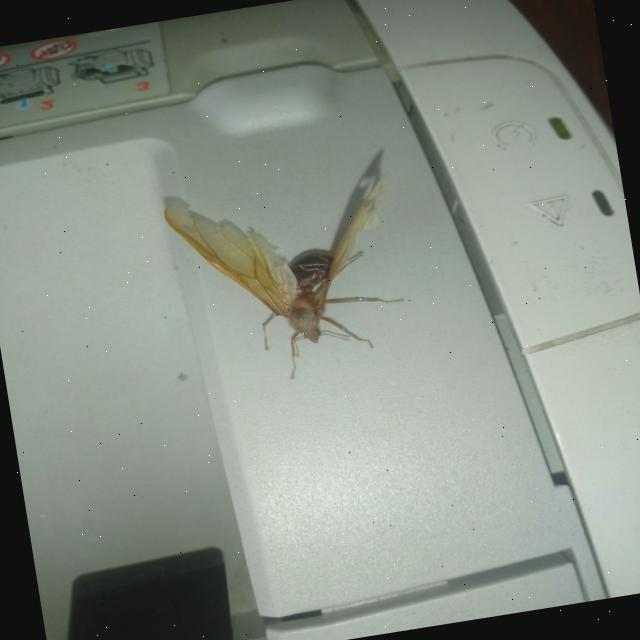Alive-Male-Alate: (162, 171, 418, 395)
